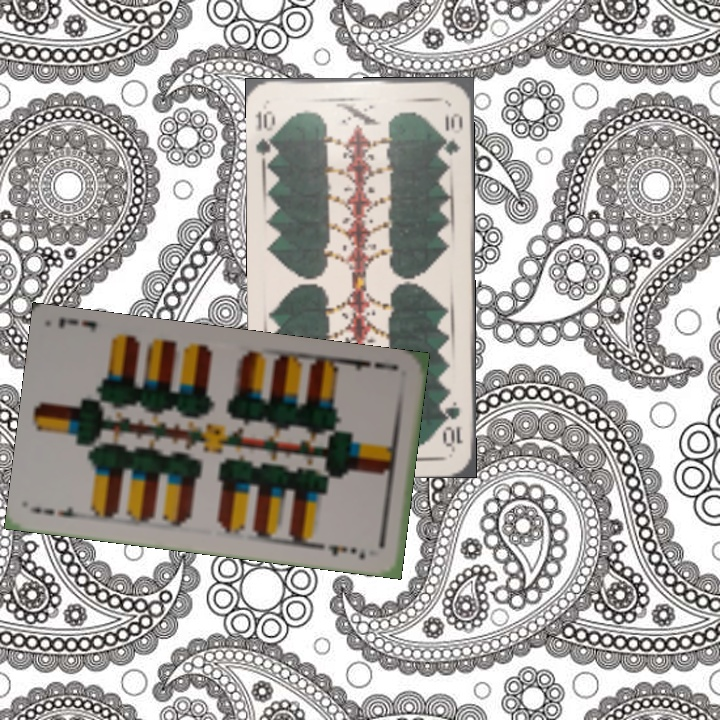E7: (342, 354, 401, 374), (31, 503, 90, 522)
G10: (252, 106, 280, 162), (440, 398, 466, 451)
